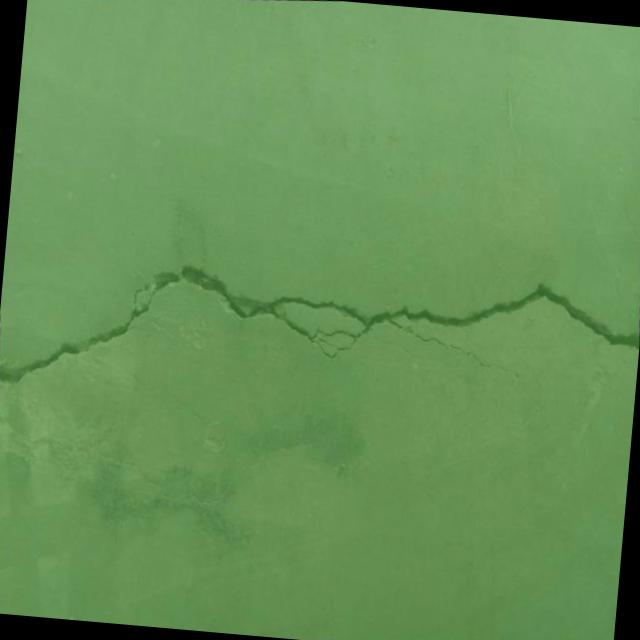crack: (0, 215, 640, 438)
